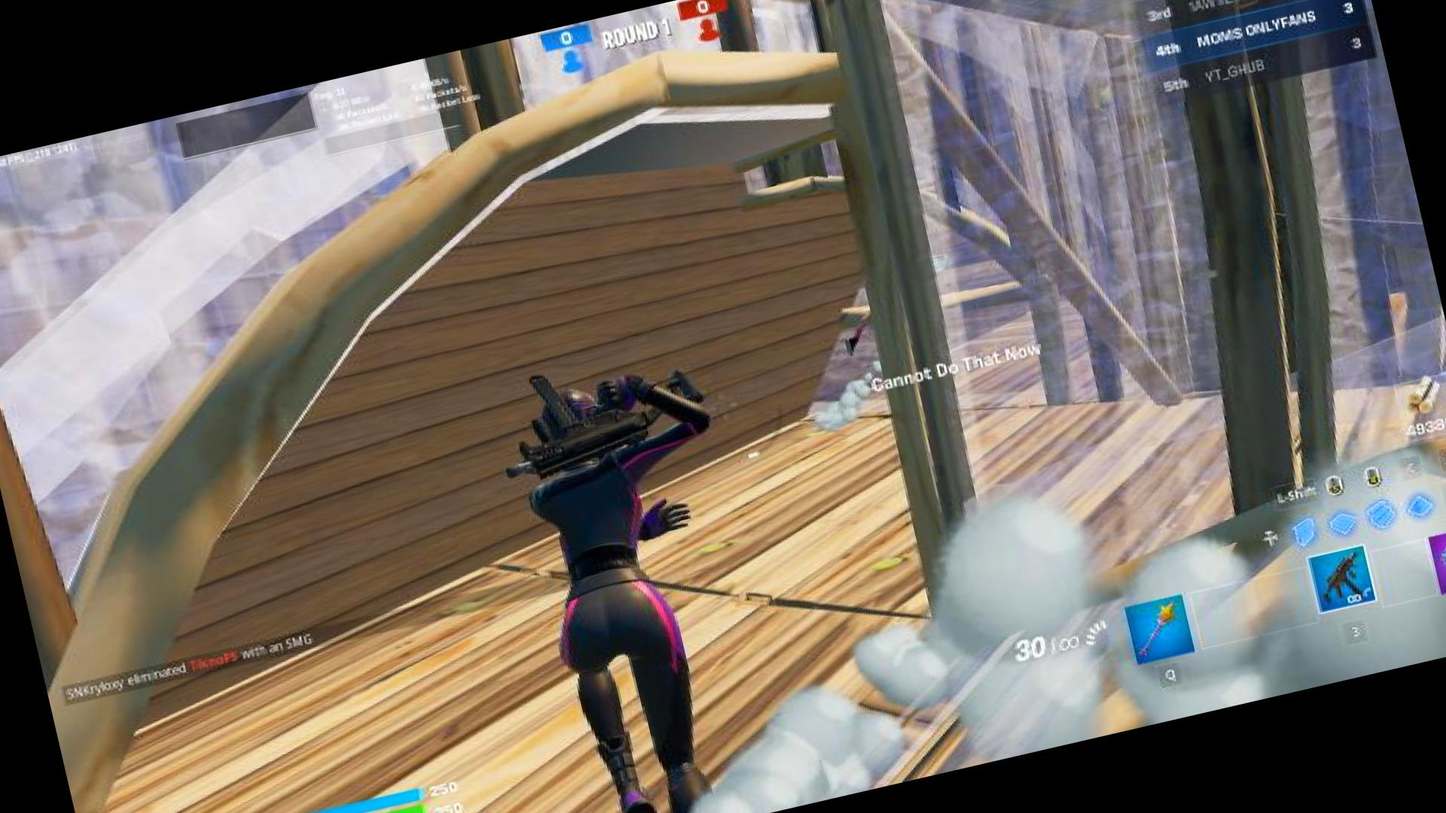player: (822, 311, 887, 367)
